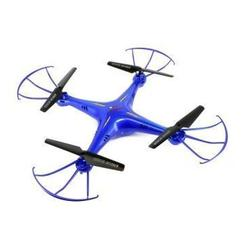drone: (16, 48, 228, 203)
